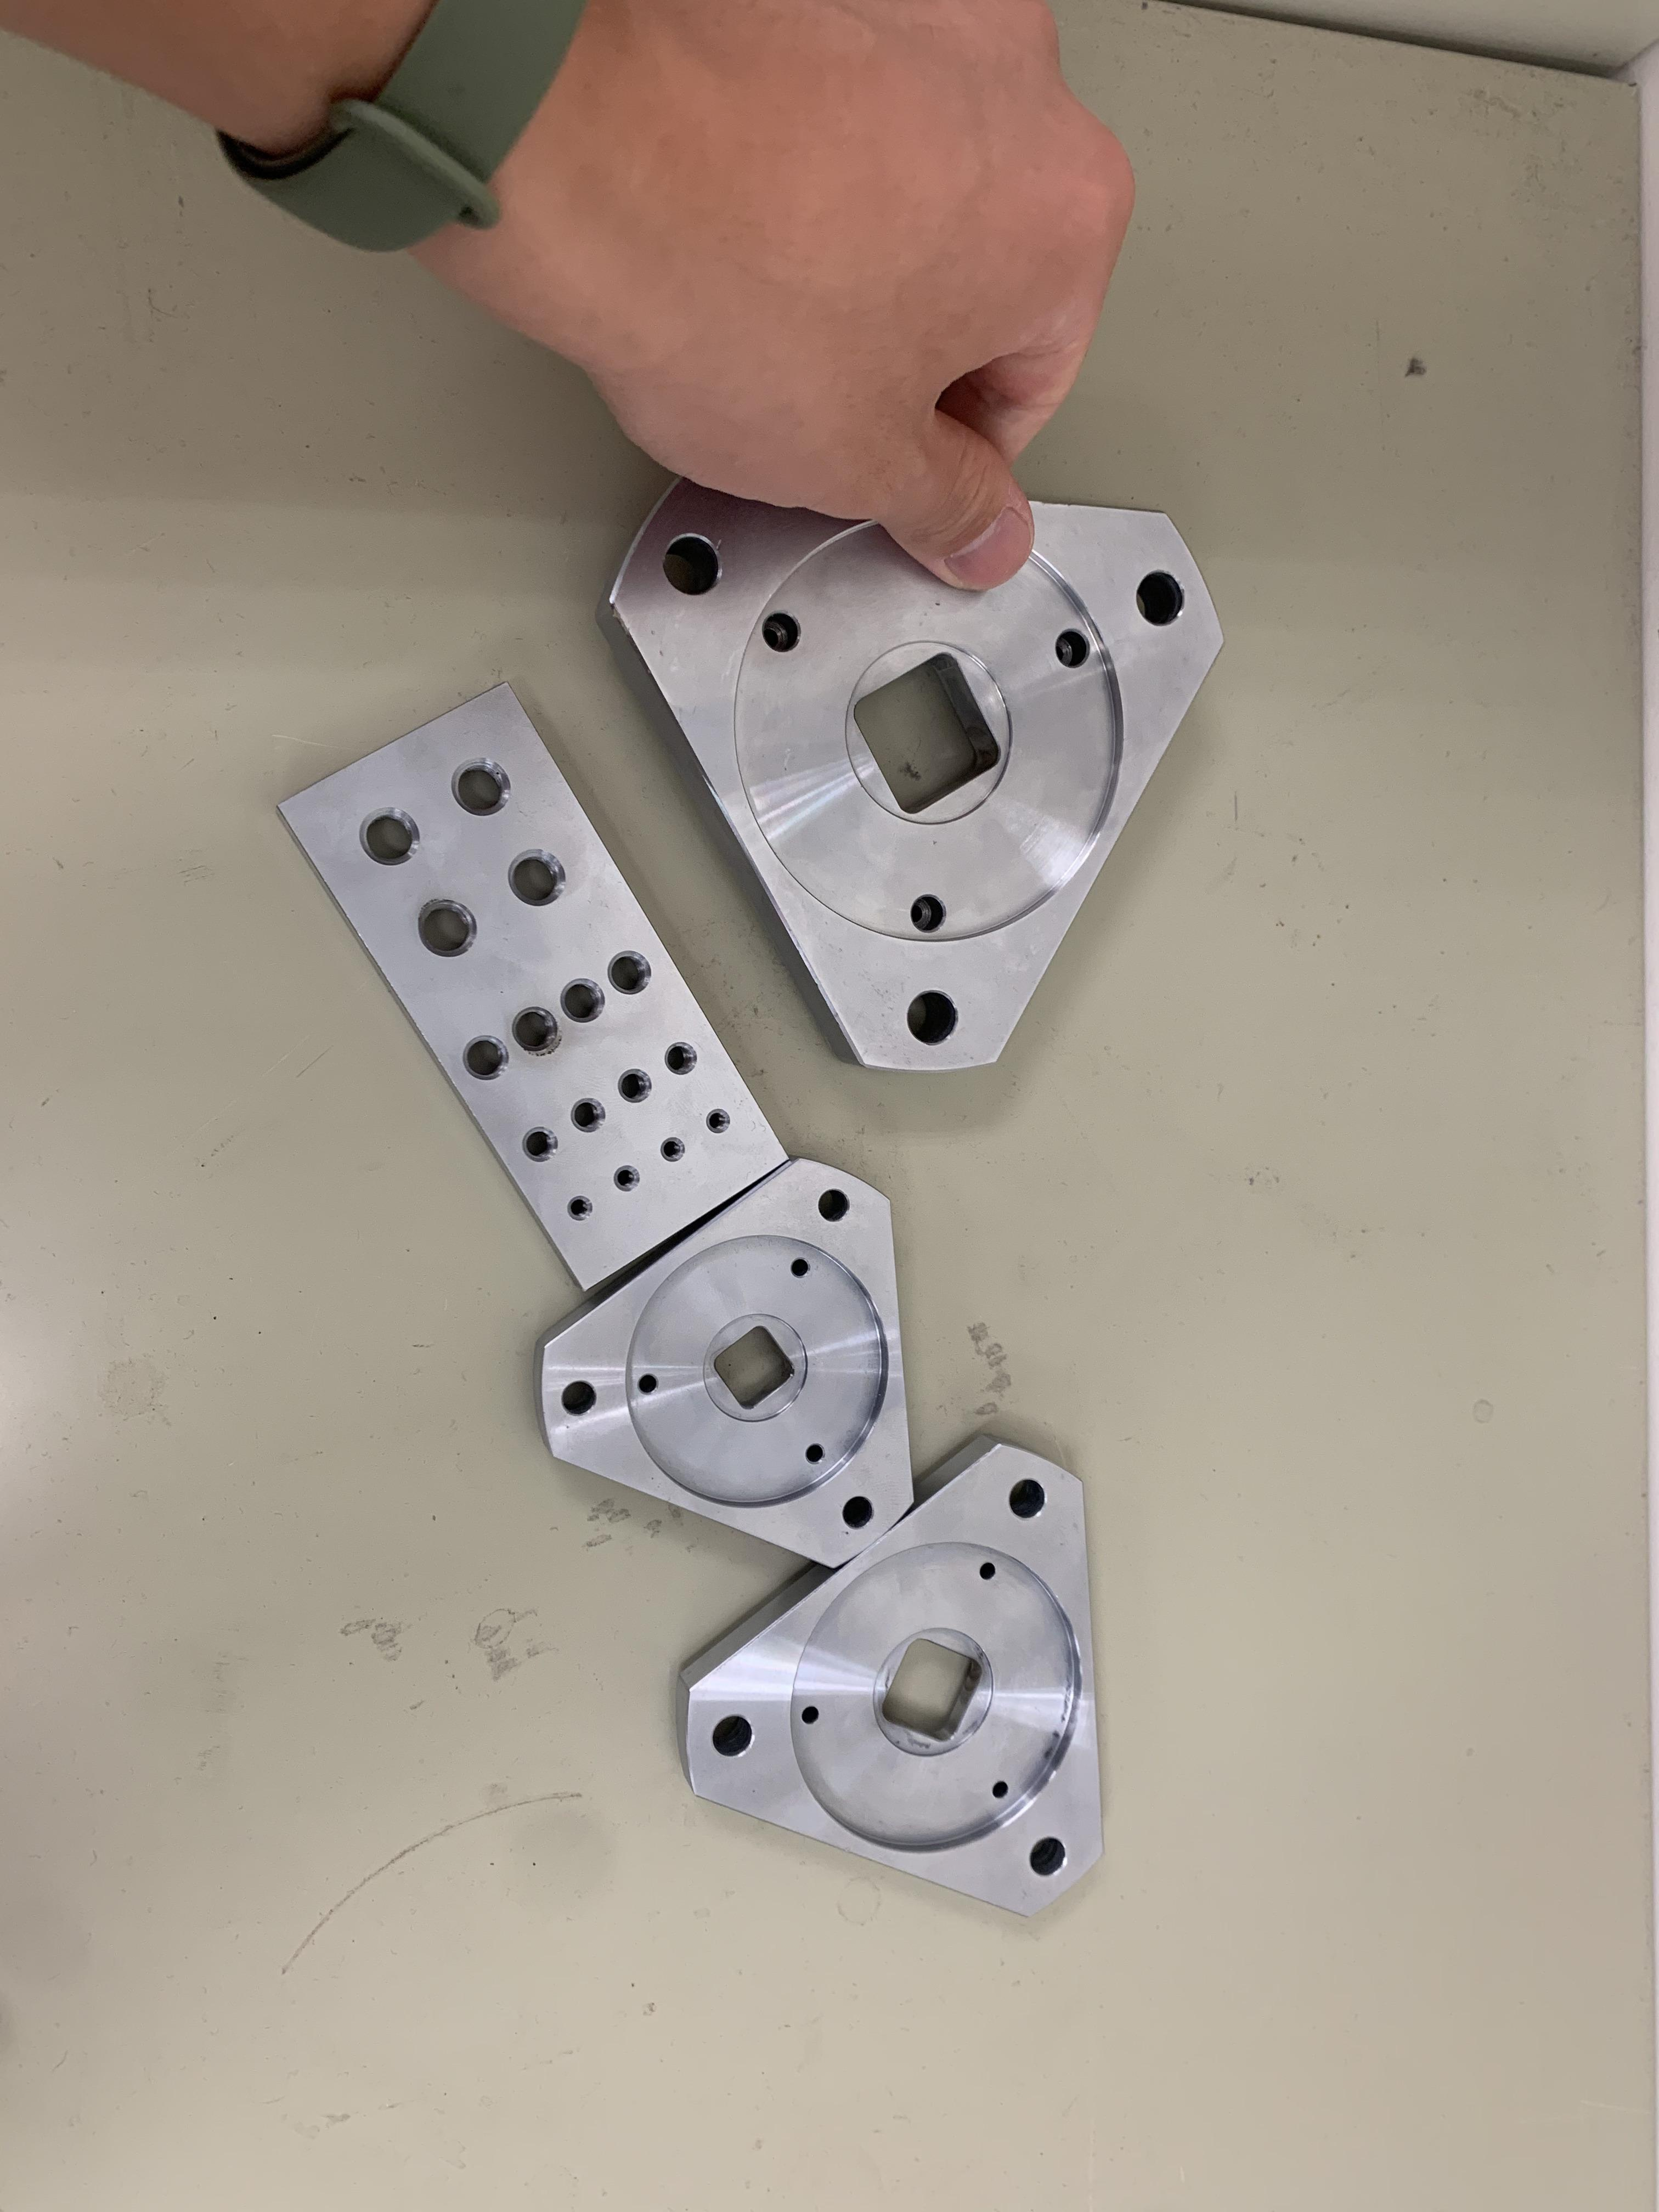hole: (401, 888, 491, 968), (653, 517, 732, 604), (347, 796, 425, 878), (444, 751, 519, 827), (504, 838, 577, 916), (1131, 557, 1194, 634), (896, 988, 967, 1054), (704, 1703, 769, 1775), (554, 1367, 612, 1439), (455, 1021, 509, 1089), (1016, 1825, 1075, 1886), (554, 974, 612, 1036), (753, 601, 809, 664), (512, 1000, 563, 1068), (999, 1467, 1047, 1533), (605, 948, 660, 1005), (800, 1184, 863, 1231), (1044, 624, 1098, 678), (897, 888, 955, 939), (561, 1087, 612, 1143), (610, 1059, 659, 1113), (697, 1097, 746, 1150), (657, 1028, 702, 1083), (509, 1120, 561, 1167), (558, 1186, 599, 1238), (960, 1550, 1011, 1590), (836, 1489, 877, 1536), (605, 1160, 647, 1204), (652, 1129, 694, 1170), (784, 1251, 823, 1285), (793, 1691, 821, 1735), (796, 1437, 828, 1472), (978, 1777, 1016, 1804), (634, 1367, 664, 1400)
